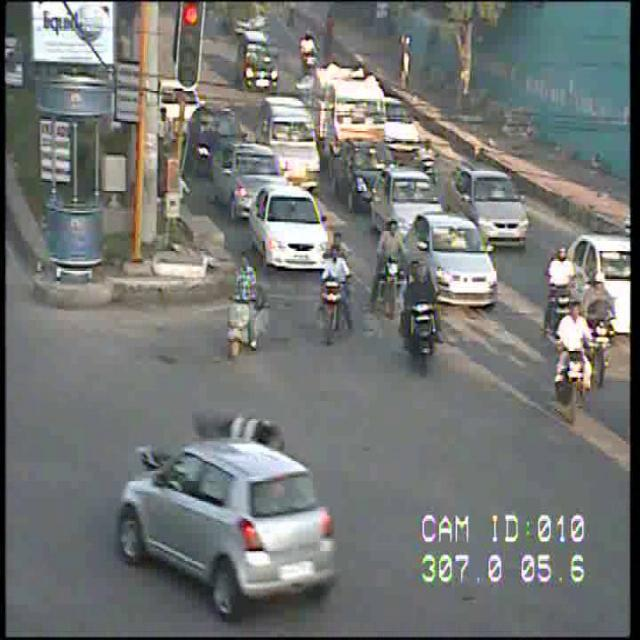Accident: (104, 382, 334, 596)
